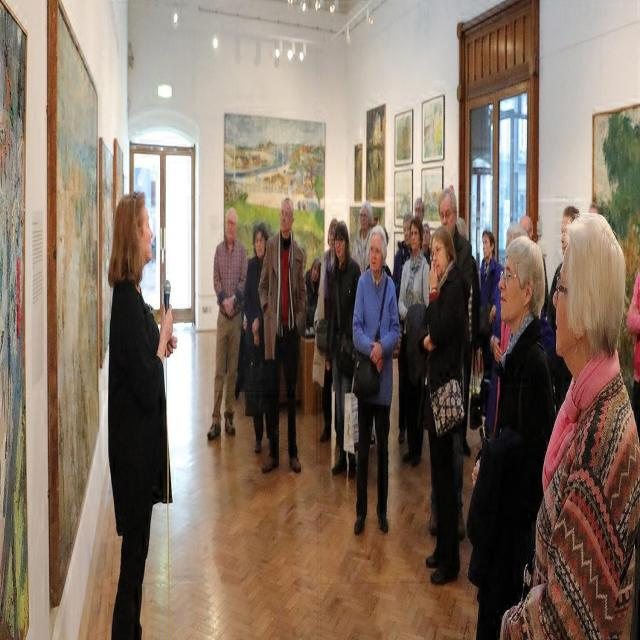body: (498, 210, 640, 640), (465, 233, 559, 639), (105, 182, 178, 639), (422, 220, 471, 586), (425, 183, 474, 541), (351, 222, 401, 536), (484, 222, 555, 443), (257, 194, 308, 476), (204, 205, 249, 443), (324, 219, 362, 481), (397, 214, 430, 472), (546, 203, 583, 415), (241, 219, 271, 457), (454, 215, 482, 458), (311, 217, 339, 447), (392, 210, 416, 445), (477, 227, 506, 345), (518, 214, 549, 315), (625, 259, 640, 438), (350, 198, 374, 276), (240, 252, 251, 408), (376, 212, 395, 284), (304, 256, 322, 330), (585, 193, 611, 231), (296, 237, 309, 307), (421, 222, 431, 270), (414, 196, 424, 224)
